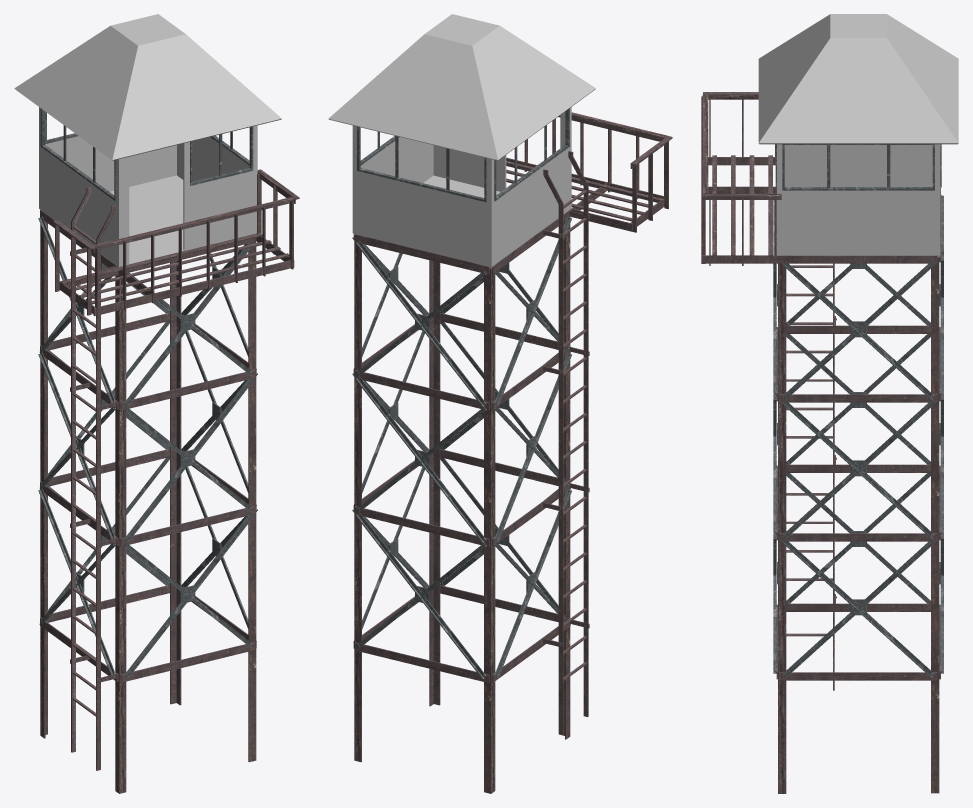
The model's file is GuardTower1.fbx.
3 renders of one model, left to right at view 1: azimuth 30°, elevation 25°; view 2: azimuth 150°, elevation 25°; view 3: azimuth 270°, elevation 25°, orthographic. The views are drawn at different scales.
Visible parts, largest first — view 1: polySurface301; view 2: polySurface301; view 3: polySurface301.
Part boxes in pixels (left/top/right/bottom): polySurface301: left=14, top=14, right=299, bottom=793; polySurface301: left=328, top=14, right=672, bottom=793; polySurface301: left=701, top=14, right=958, bottom=793.
Size of the model in its own units: 4.84 by 15.18 by 4.83.
